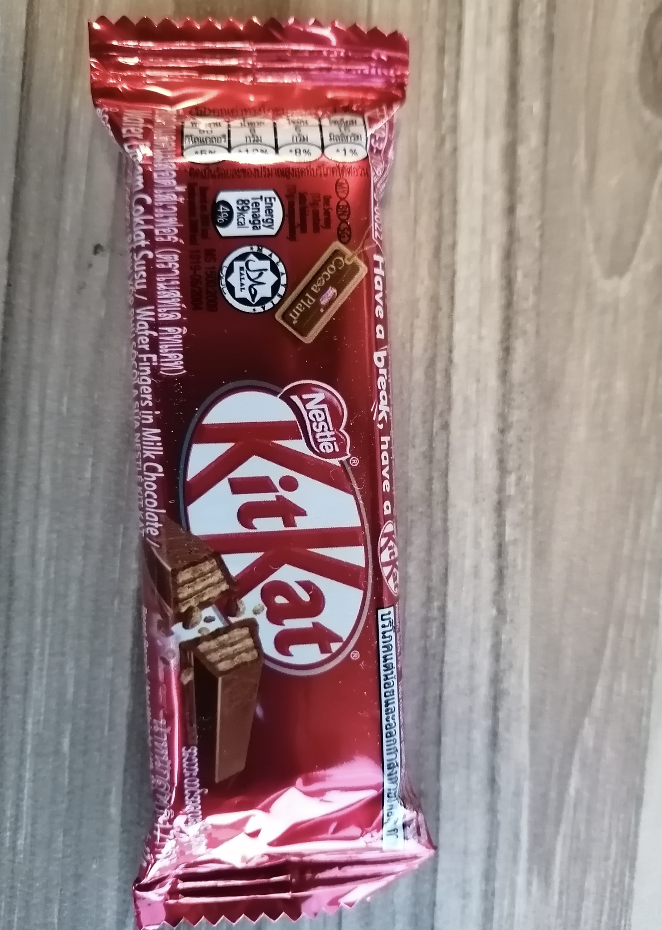Kitkat: (144, 88, 398, 844)
